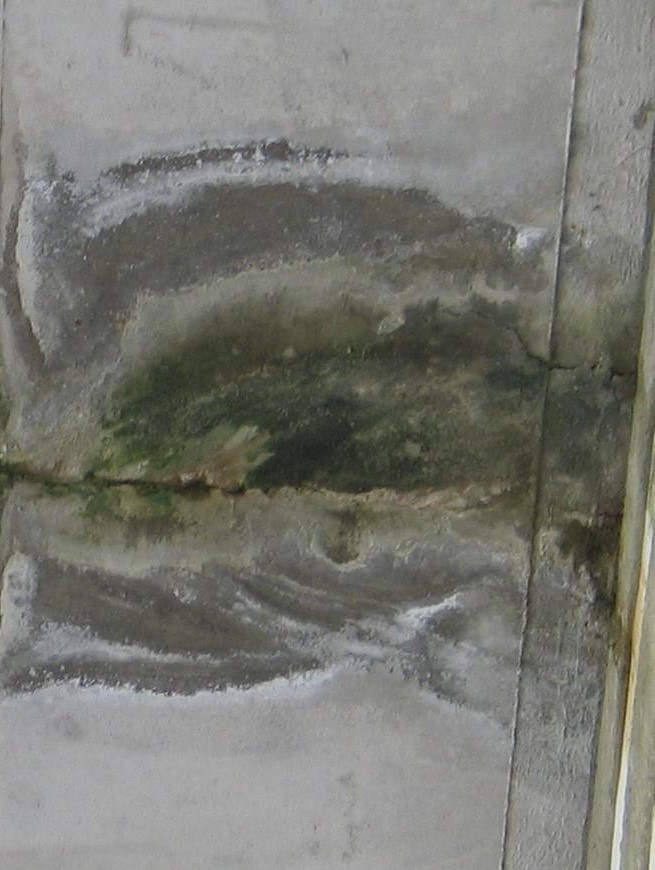Corrosion: (1, 138, 655, 734)
